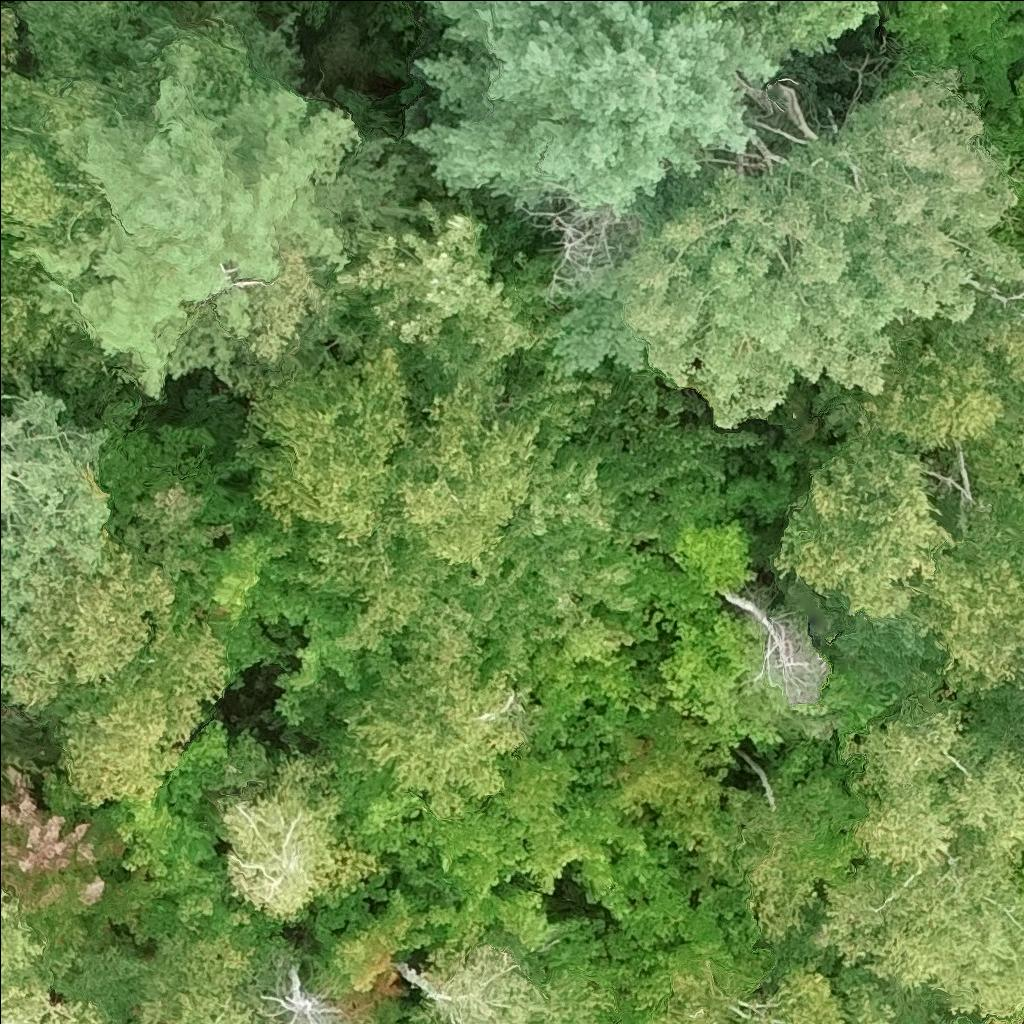crown: (597, 72, 1022, 428), (10, 43, 406, 398), (410, 0, 778, 372), (324, 686, 726, 950), (421, 532, 718, 746), (0, 538, 232, 805), (339, 596, 538, 820), (334, 199, 547, 405), (806, 820, 1023, 1021), (245, 348, 416, 546), (775, 426, 952, 615), (0, 375, 112, 672), (98, 425, 270, 594), (843, 710, 1023, 871), (218, 747, 375, 921), (379, 397, 540, 562), (169, 512, 324, 672), (549, 381, 767, 494), (902, 502, 1023, 697), (851, 305, 1006, 450), (303, 495, 447, 651), (0, 74, 115, 249), (661, 613, 785, 764), (270, 591, 396, 727), (874, 0, 1023, 107), (644, 0, 875, 65), (0, 767, 100, 911), (601, 456, 727, 570), (496, 444, 617, 561), (957, 344, 1023, 541), (0, 236, 78, 393), (653, 964, 842, 1023), (417, 943, 556, 1023), (107, 801, 221, 895), (940, 272, 1023, 383), (830, 609, 943, 685), (663, 516, 756, 603), (136, 987, 290, 1023), (724, 449, 798, 523), (0, 976, 102, 1023), (260, 961, 336, 1023), (986, 78, 1023, 204), (0, 901, 45, 983), (848, 981, 891, 1023), (0, 5, 16, 65), (1012, 868, 1023, 895), (1016, 762, 1023, 778), (1020, 723, 1023, 738), (296, 1021, 310, 1023)
